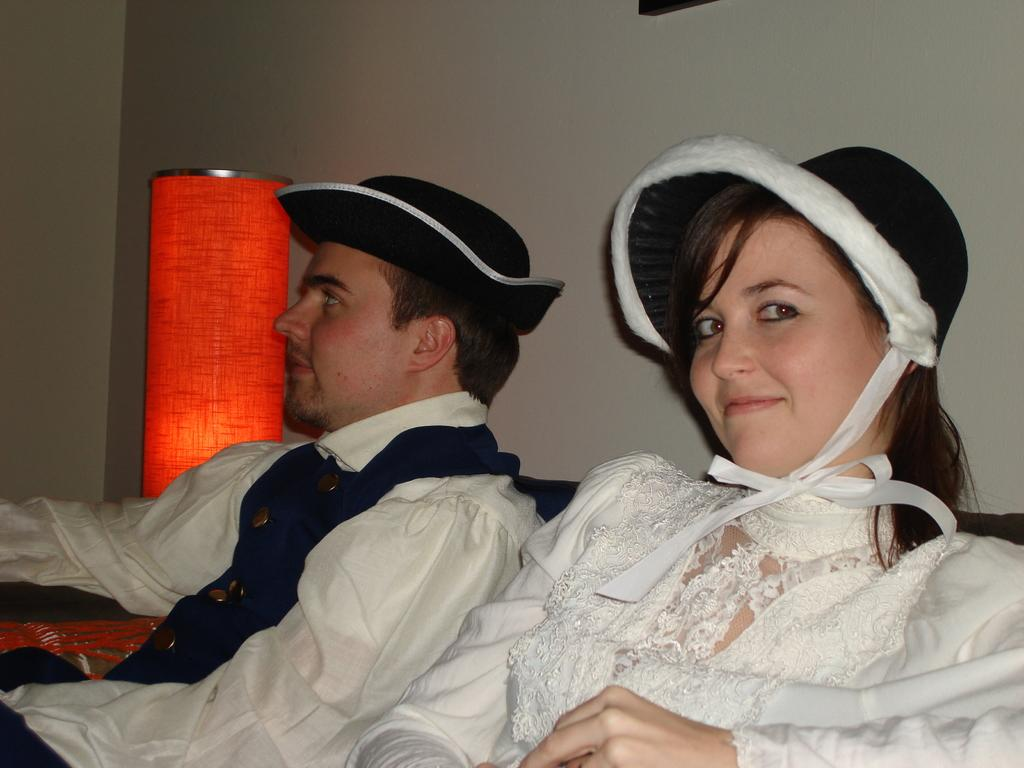Hat: (592, 134, 972, 602), (274, 171, 564, 332)
